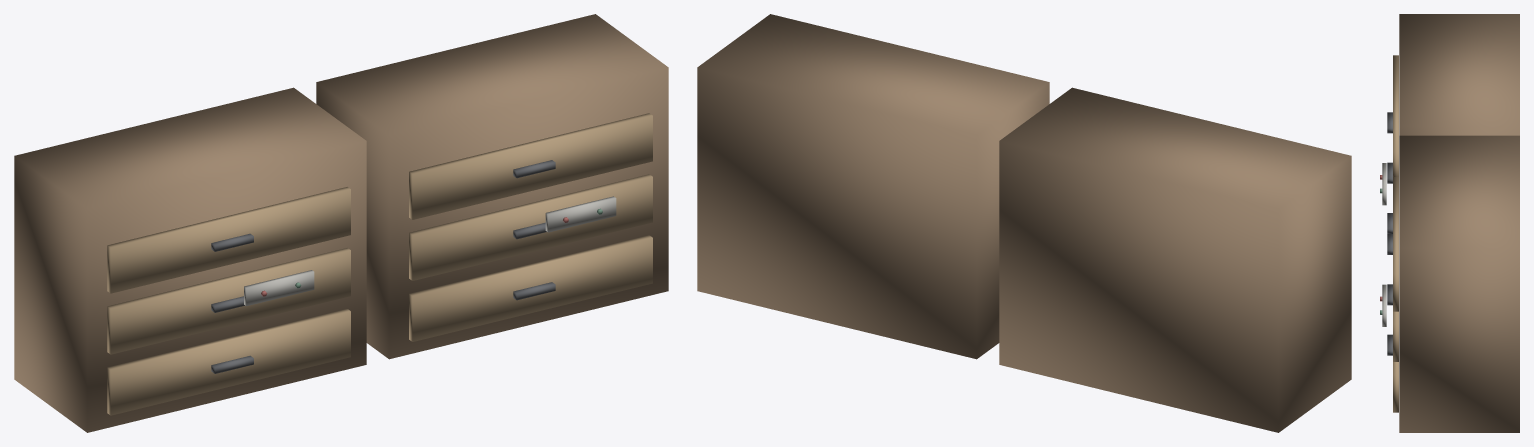
The model's file is dresser__cluster.glb.
The picture shows the model from 3 angles, left to right: view 1: azimuth 30°, elevation 25°; view 2: azimuth 150°, elevation 25°; view 3: azimuth 270°, elevation 25°; orthographic projection. The views are drawn at different scales.
Visible parts, largest first — view 1: world; view 2: world; view 3: world.
Boxes of the visible parts, x1,y1,x2,y2 form: world: (14,14,668,432); world: (697,14,1351,432); world: (1380,14,1519,432).
Size of the model in its own units: 2.39 by 0.88 by 0.6035.
